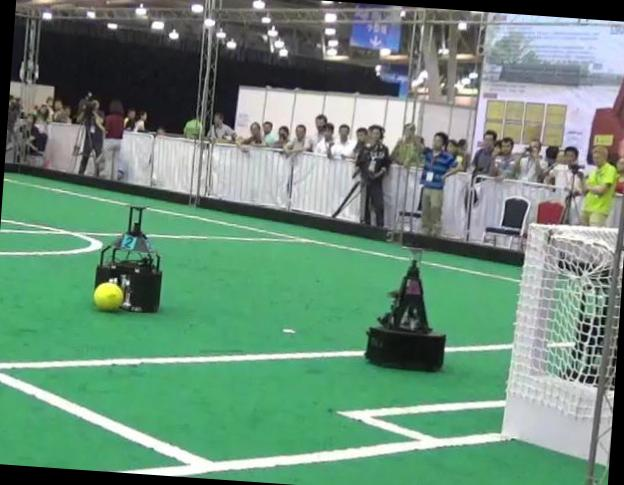ball: (93, 282, 123, 310)
robot: (365, 259, 445, 370), (95, 205, 161, 312)
